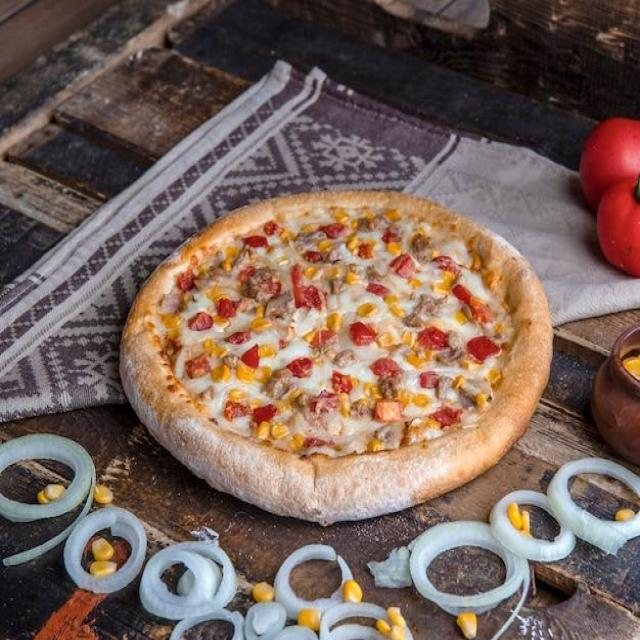pizza: (122, 190, 554, 527)
